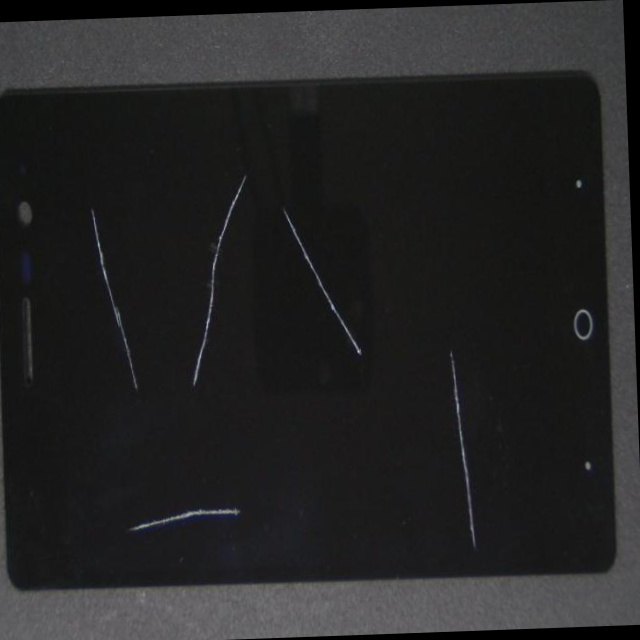scratch: (81, 26, 461, 396)
